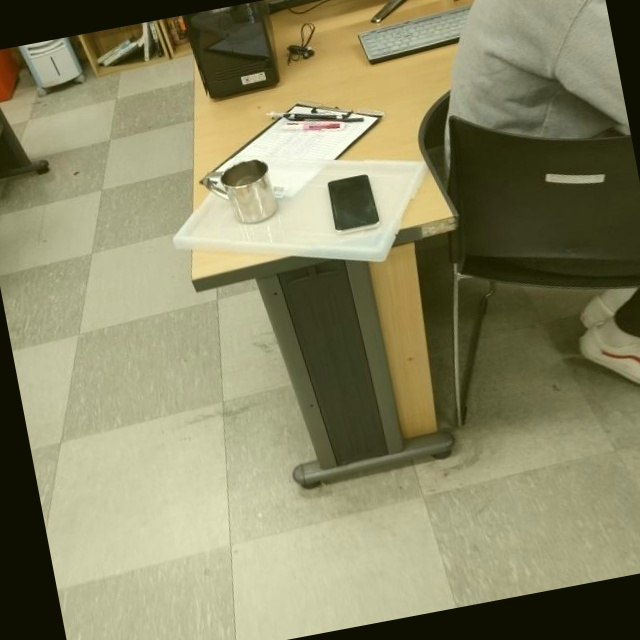cup: (195, 157, 282, 234)
phone: (323, 170, 382, 234)
